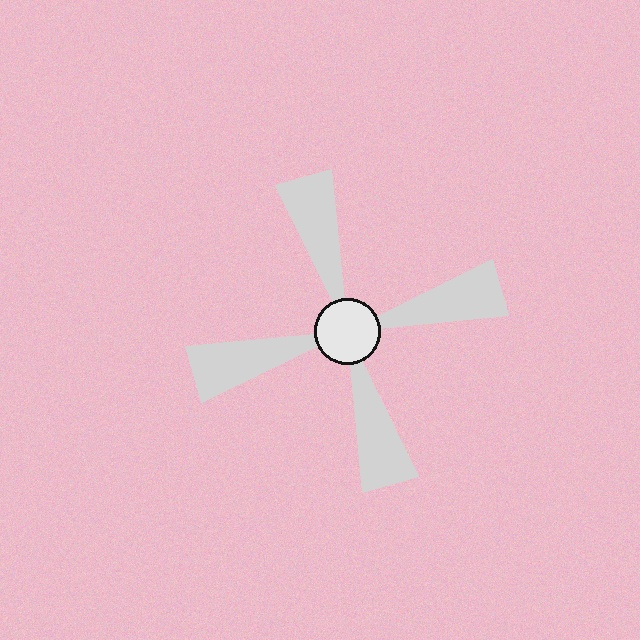fan: (158, 142, 536, 520)
